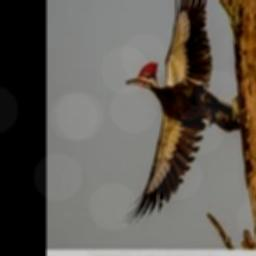Woodpecker: (122, 0, 242, 227)
